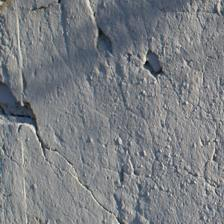Crack: (43, 145, 120, 222), (3, 79, 47, 165), (89, 4, 116, 56), (143, 49, 168, 80)
